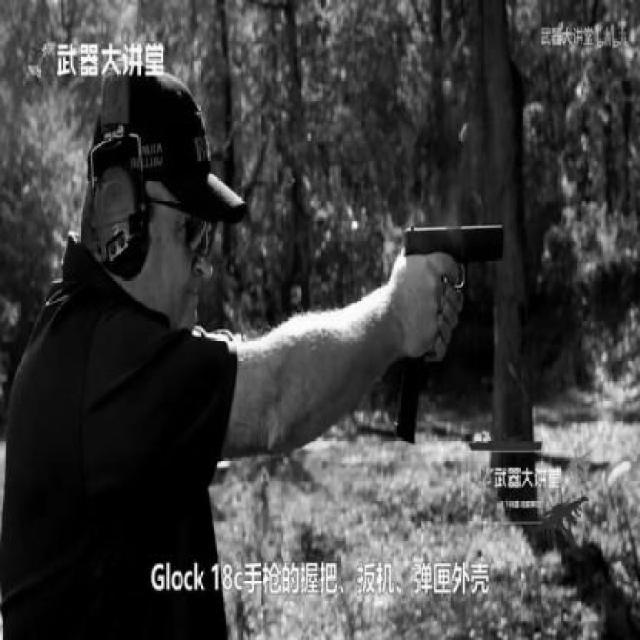non-violence: (0, 69, 469, 640)
weapon: (397, 210, 508, 447)
